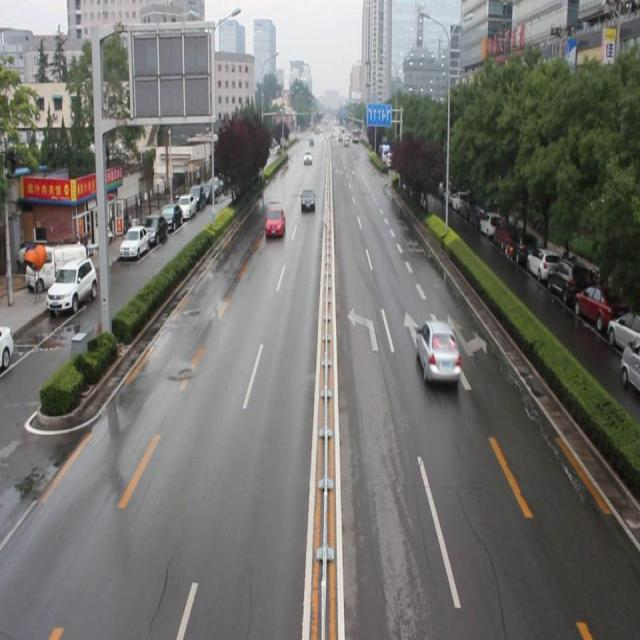car: (414, 318, 461, 384), (265, 205, 285, 238), (299, 188, 315, 214)
